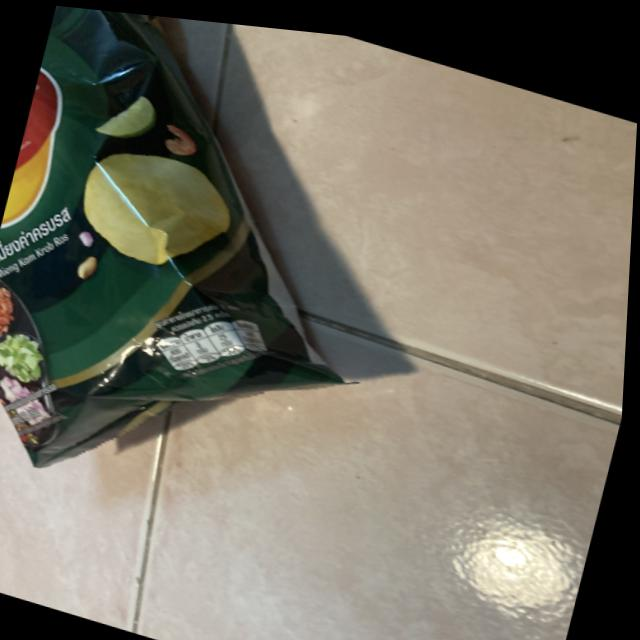Laygreen: (0, 0, 442, 564)
